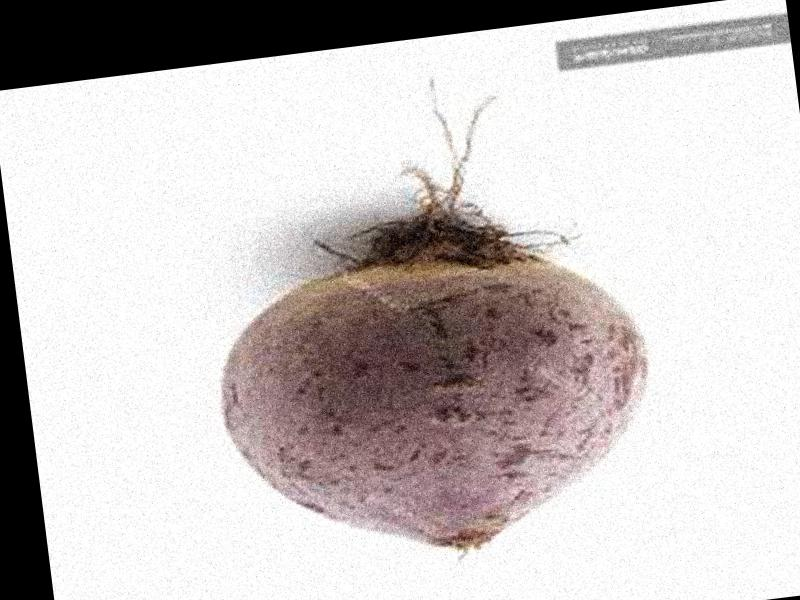Beet: (183, 53, 672, 581)
